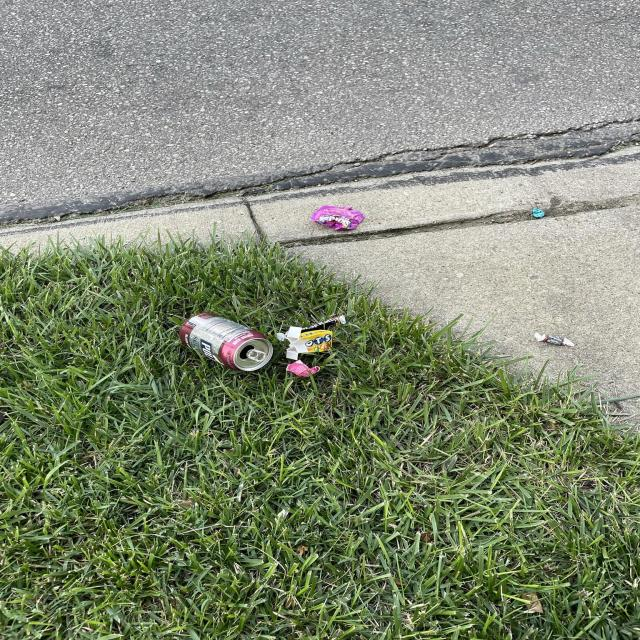litter: (173, 314, 279, 374), (286, 320, 352, 360)
